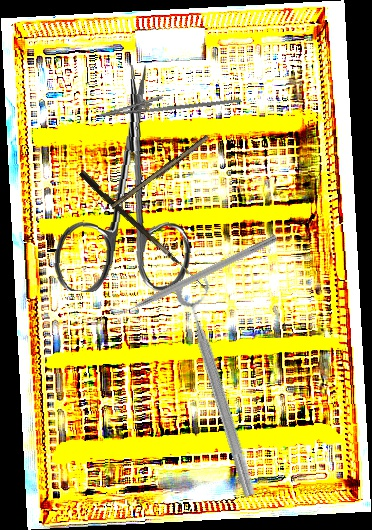Chopper: (106, 225, 279, 322)
Fixation Ring: (172, 272, 274, 500)
Hook Surgical: (76, 170, 213, 290)
Iris Scissors: (52, 60, 204, 299)
Needle Holder: (96, 71, 242, 135)
Scalpel Handle: (110, 133, 211, 212)
